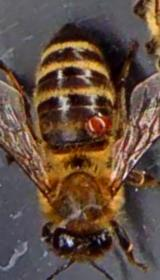varroa_mite: (80, 111, 108, 136)
